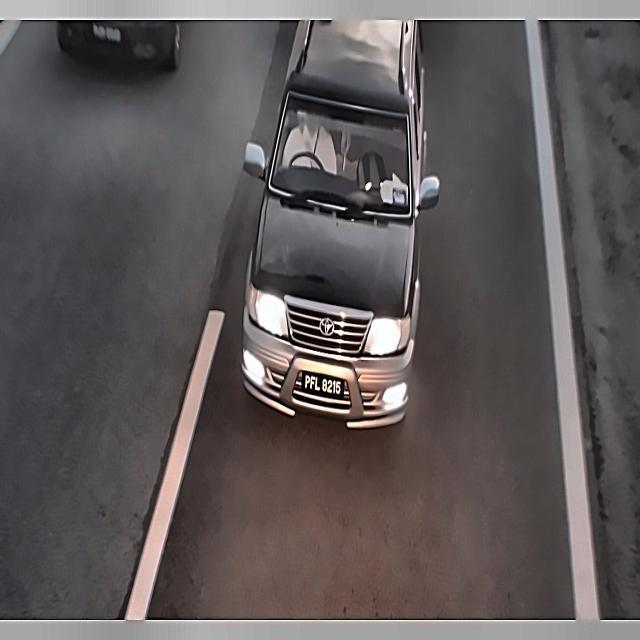car: (289, 363, 356, 412), (77, 20, 136, 56)
